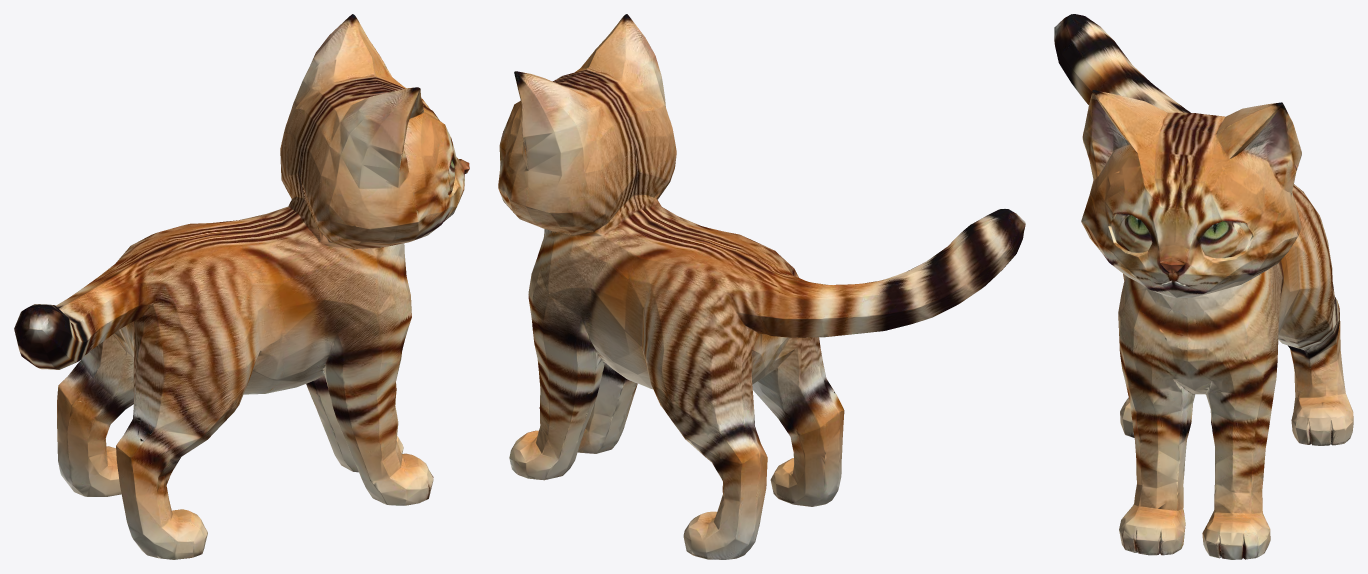
The model's file is RUSTLEPAW.glb.
The picture shows the model from 3 angles, left to right: view 1: azimuth 30°, elevation 25°; view 2: azimuth 150°, elevation 25°; view 3: azimuth 270°, elevation 25°; orthographic projection. The views are drawn at different scales.
Parts seen in each view (by area): view 1: fit; view 2: fit; view 3: fit.
Boxes of the visible parts, <box> form: fit: <box>14,14,469,559</box>; fit: <box>498,14,1025,559</box>; fit: <box>1054,14,1353,559</box>.
Bounding box in the file's own units: 1.19 × 0.9998 × 0.6031.
Materials: 1 (1 with a texture image).
